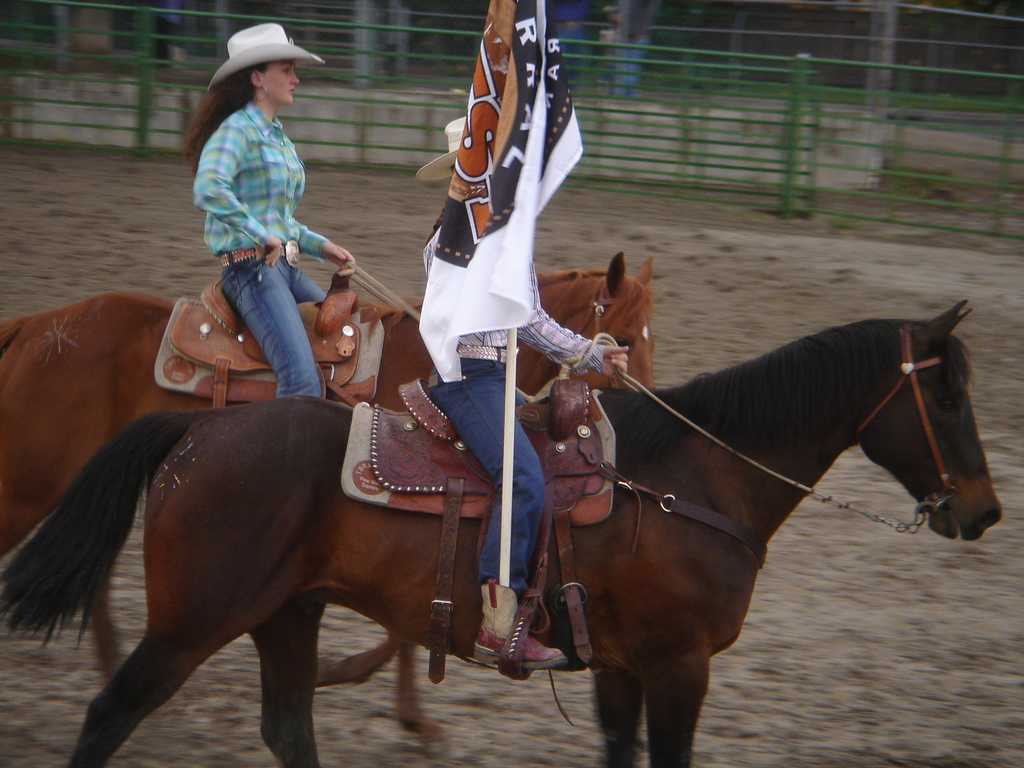Person: (416, 115, 628, 669), (184, 22, 355, 399)
